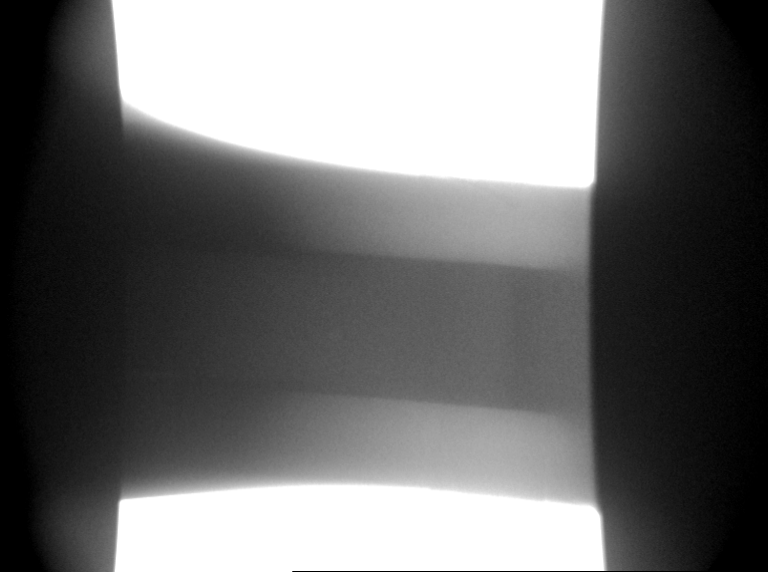defect: (322, 322, 349, 344)
